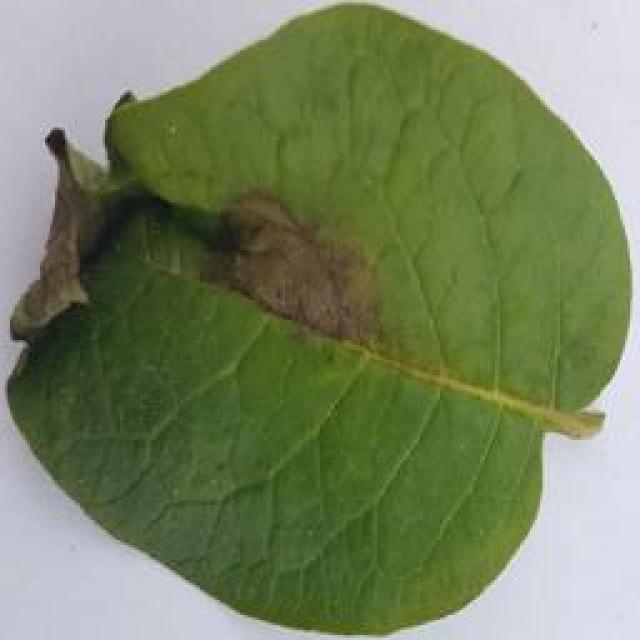Potato_Late_Blight: (4, 8, 634, 638)
